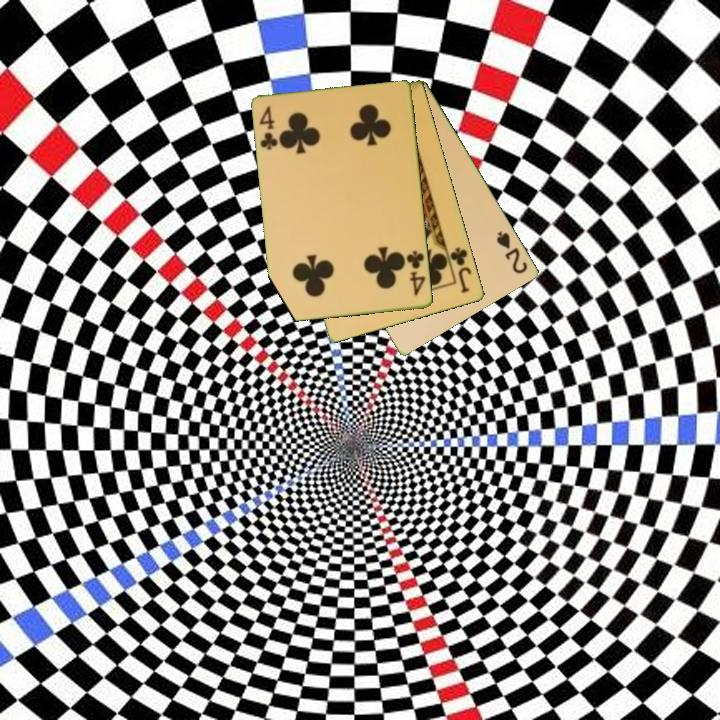2s: (493, 228, 531, 277)
4c: (403, 247, 428, 299), (256, 103, 281, 153)
Jc: (444, 244, 475, 296)
